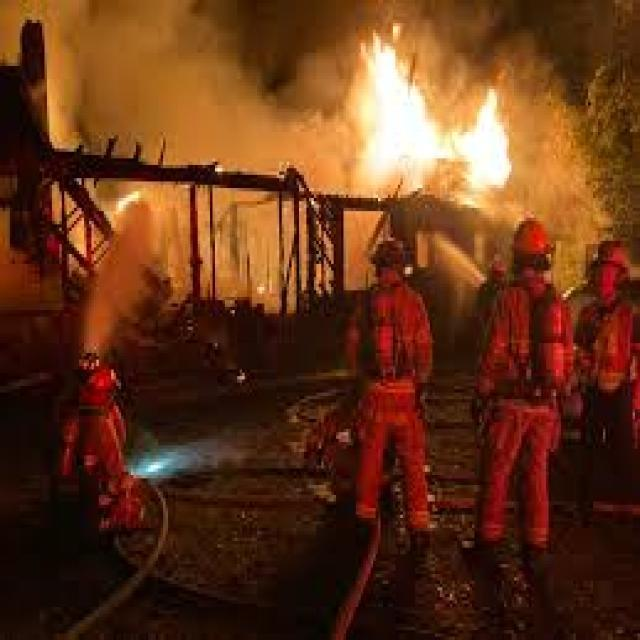Fire: (346, 48, 530, 210)
Smoke: (57, 0, 343, 181)
